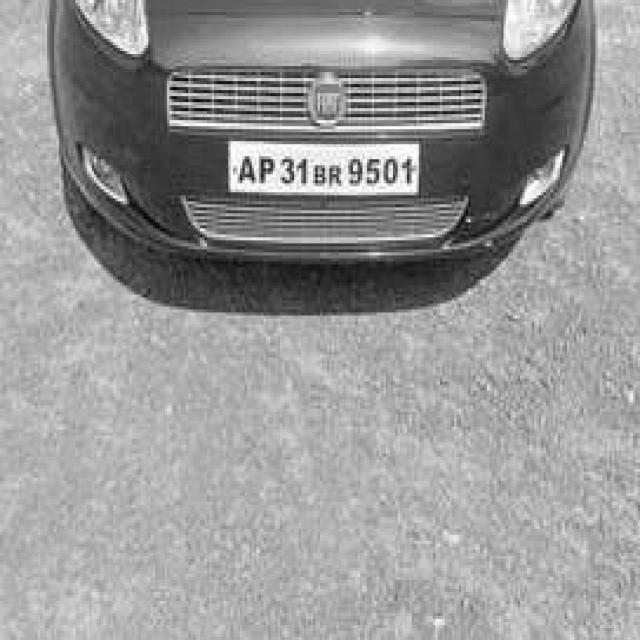license-plate: (231, 142, 421, 198)
